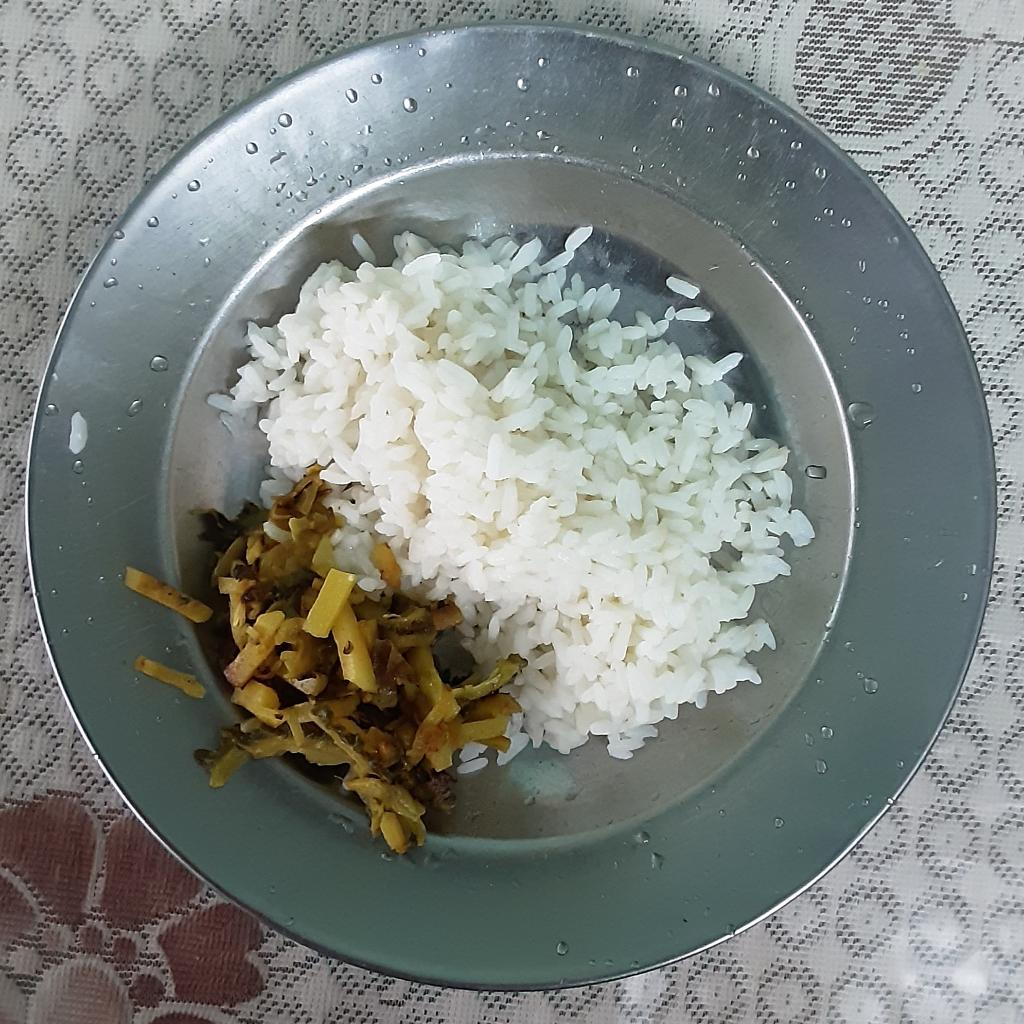rice: (212, 219, 820, 765)
vegetable: (128, 462, 513, 855)
